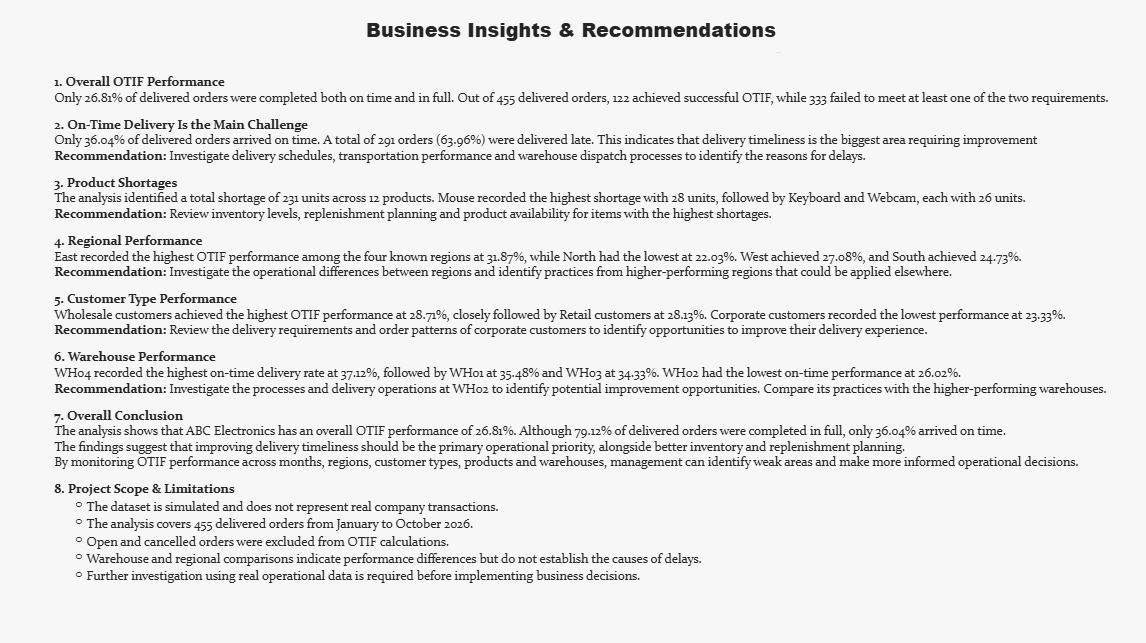

The dashboard page shown, as its layout file describes it:
{"tool":"powerbi","page":{"name":"Business insights & Recommendations","canvas":[1920,1080],"ordinal":1},"visuals":[{"type":"textbox","title":"Business Insights & Recommendations","box":[614.8,29.5,691.8,62.3],"z":0},{"type":"textbox","box":[53.4,125.9,1813.8,919],"z":1000}]}

Visuals, with their boxes in screenshot pixels (x1, y1, x2, y2), scaled from the page's 1920x1080 canvas onto the 1146x643 screenshot:
"Business Insights & Recommendations" textbox: bbox=[367, 18, 780, 55]
textbox: bbox=[32, 75, 1114, 622]
